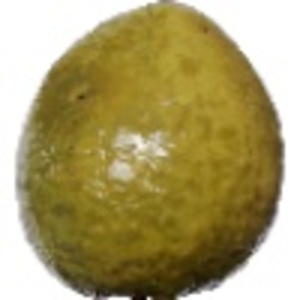goiaba: (12, 5, 288, 293)
